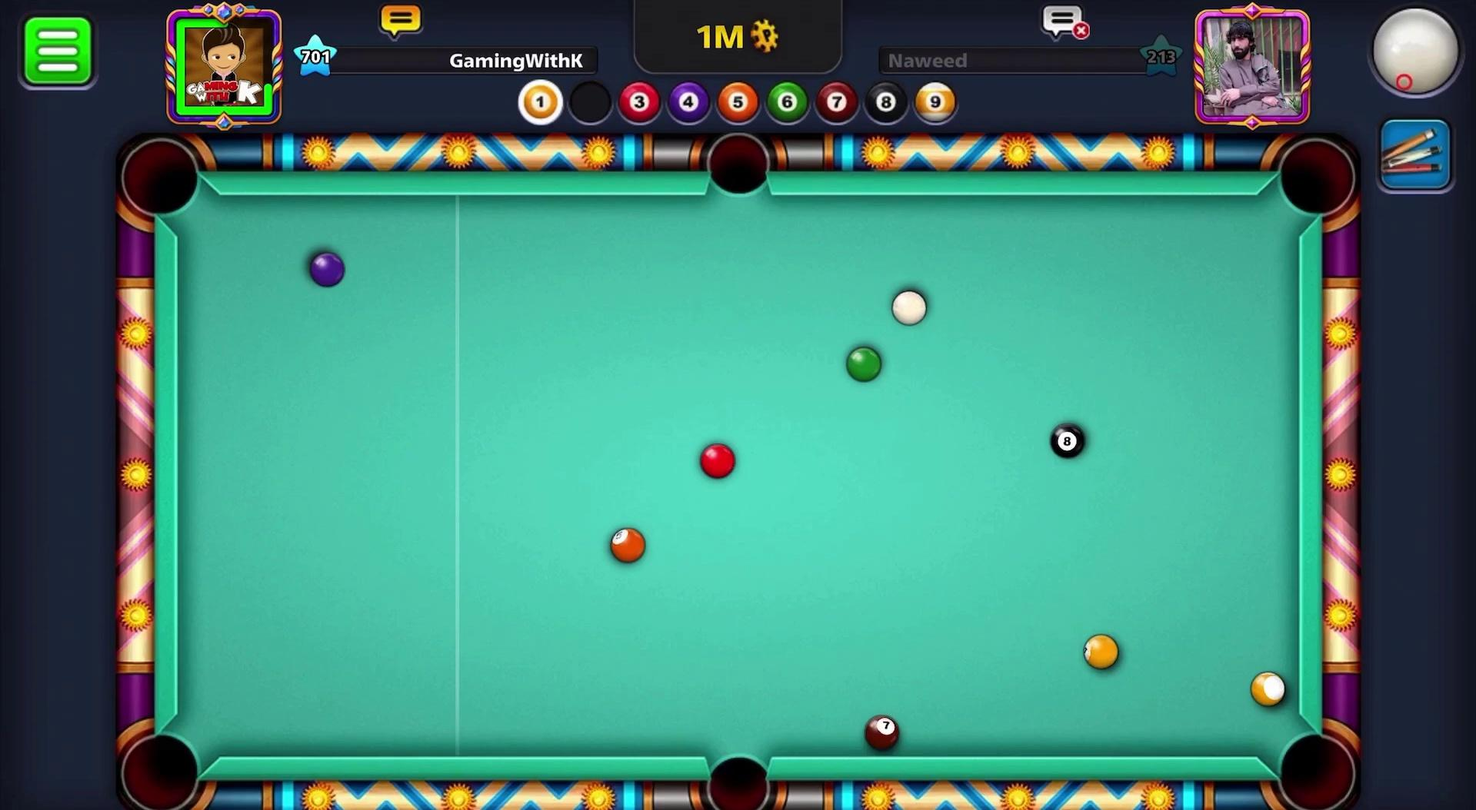Ball: (1079, 625, 1123, 675), (603, 523, 651, 568), (305, 248, 351, 294), (1045, 416, 1090, 462), (856, 712, 903, 752), (843, 340, 885, 384), (695, 440, 738, 482), (1249, 666, 1288, 705)
Hole: (109, 124, 222, 237), (1267, 131, 1365, 230), (1264, 715, 1362, 809), (111, 720, 211, 809), (694, 124, 784, 207), (686, 741, 785, 809)
Play_Area: (176, 194, 1301, 762)
Spin: (1345, 0, 1475, 119)
White: (886, 282, 934, 327)
